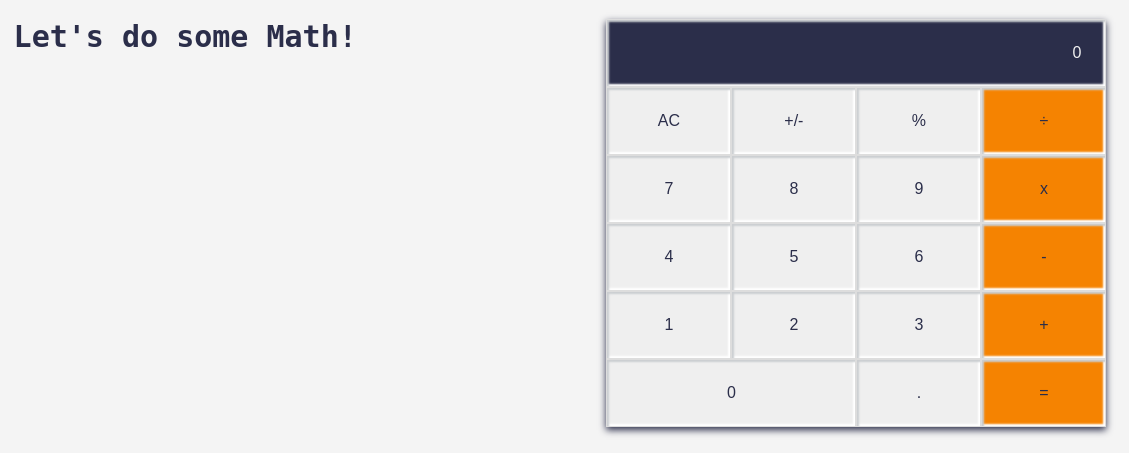
Test: Calculator › Responds on user pressing one number
The width and height of the screenshot is (1129, 453).
Click the button "1": (669,325) [606,291,731,359]
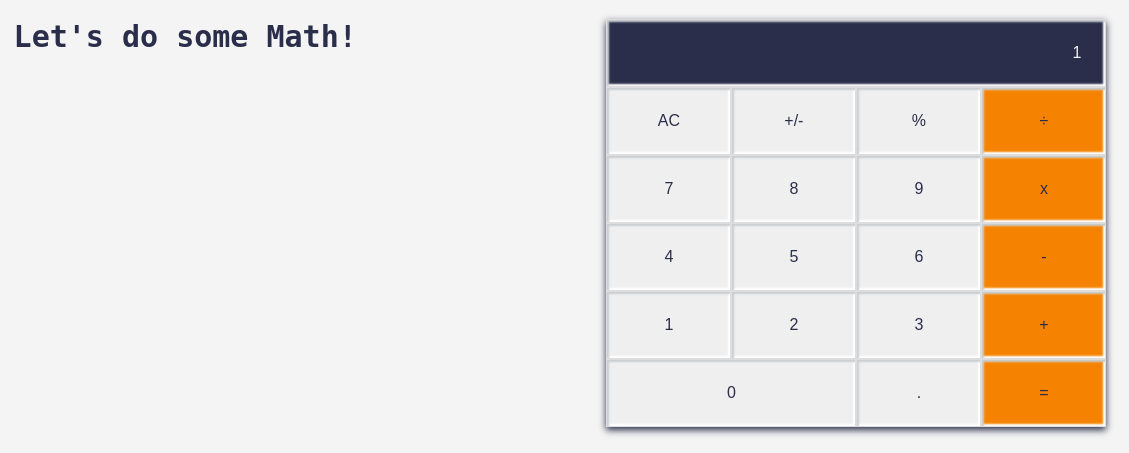
Result: the field holds "1" at [606,19,1106,87]
